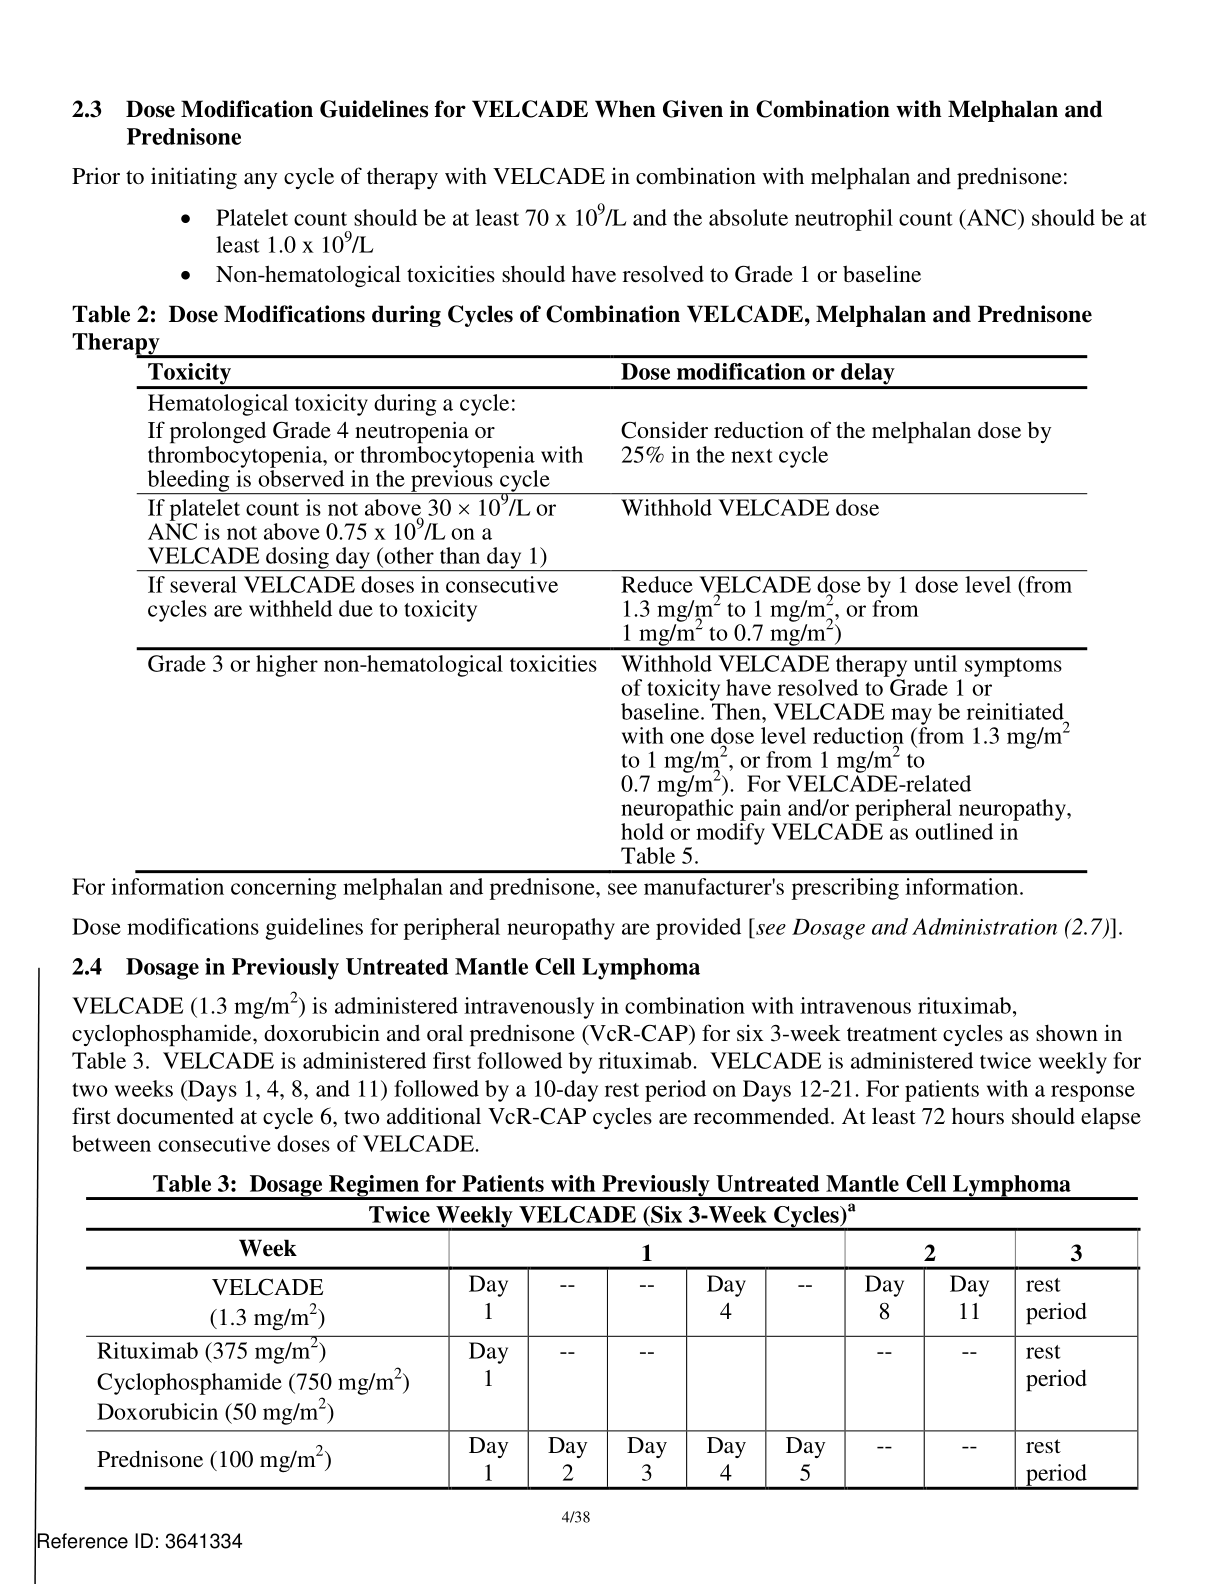partial_lined: (132, 354, 1089, 874)
partial_lined_merged_cells: (84, 1197, 1140, 1491)
